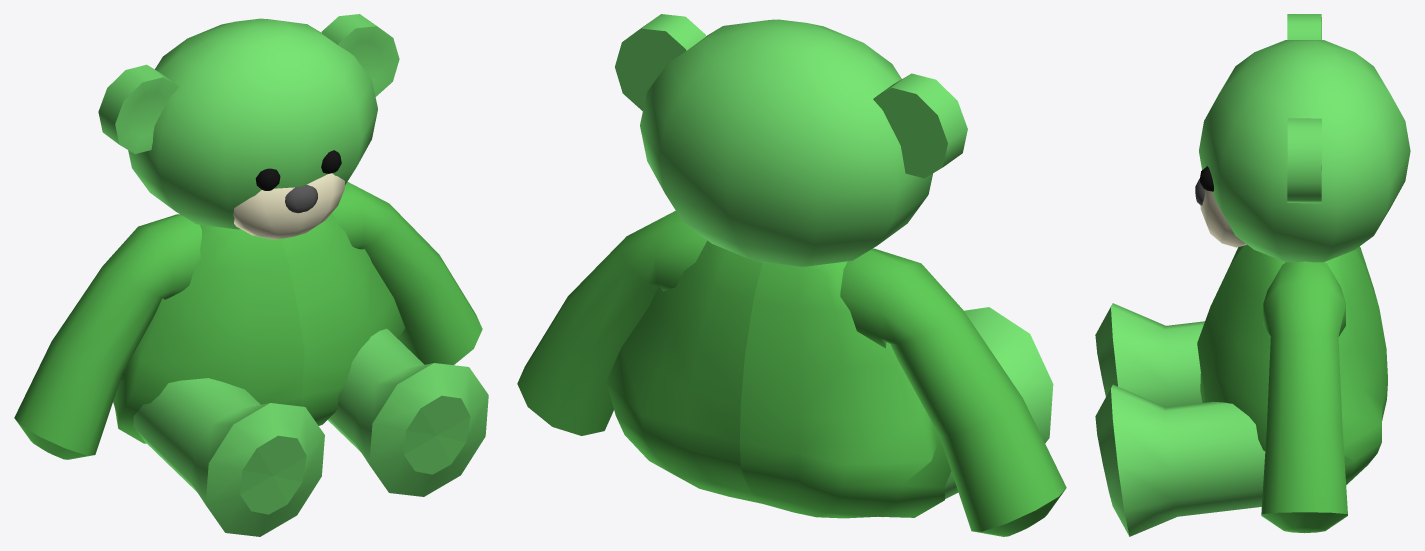
File: Bear_Model_01.fbx
The picture shows the model from 3 angles, left to right: view 1: azimuth 30°, elevation 25°; view 2: azimuth 150°, elevation 25°; view 3: azimuth 270°, elevation 25°; orthographic projection. The views are drawn at different scales.
Visible parts, largest first — view 1: pCube4, pSphere1, pCylinder8, pCylinder3, pCylinder4, pCylinder7, pCylinder9, pSphere5, pCylinder5, pSphere6; view 2: pCube4, pSphere1, pCylinder8, pCylinder7, pCylinder9, pCylinder3, pCylinder5; view 3: pSphere1, pCylinder7, pCube4, pCylinder4, pCylinder3, pCylinder5, pSphere5, pCylinder9.
Boxes of the visible parts, left/top/right/bottom form: pCube4: left=113, top=213, right=404, bottom=443; pSphere1: left=128, top=18, right=377, bottom=229; pCylinder8: left=14, top=214, right=201, bottom=459; pCylinder3: left=133, top=378, right=324, bottom=536; pCylinder4: left=328, top=328, right=488, bottom=496; pCylinder7: left=332, top=181, right=482, bottom=365; pCylinder9: left=98, top=64, right=179, bottom=153; pSphere5: left=233, top=173, right=344, bottom=239; pCylinder5: left=321, top=14, right=399, bottom=96; pSphere6: left=285, top=184, right=317, bottom=213; pCube4: left=606, top=240, right=951, bottom=518; pSphere1: left=640, top=19, right=932, bottom=266; pCylinder8: left=840, top=248, right=1066, bottom=536; pCylinder7: left=517, top=210, right=707, bottom=435; pCylinder9: left=873, top=73, right=967, bottom=178; pCylinder3: left=882, top=307, right=1053, bottom=517; pCylinder5: left=615, top=14, right=706, bottom=110; pSphere1: left=1199, top=40, right=1410, bottom=262; pCylinder7: left=1261, top=261, right=1347, bottom=533; pCube4: left=1197, top=244, right=1387, bottom=484; pCylinder4: left=1095, top=384, right=1265, bottom=536; pCylinder3: left=1095, top=303, right=1204, bottom=407; pCylinder5: left=1287, top=118, right=1321, bottom=203; pSphere5: left=1200, top=189, right=1246, bottom=247; pCylinder9: left=1287, top=14, right=1321, bottom=39.
Bounding box in the file's own units: 72.65 × 65.19 × 42.72.
